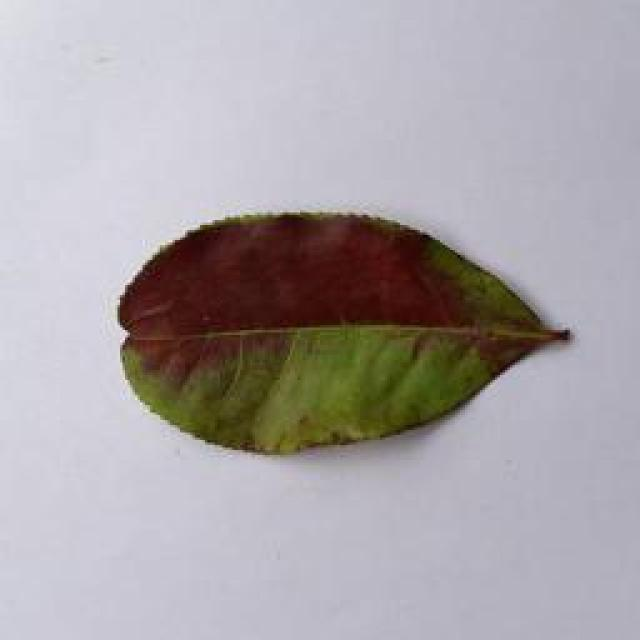Red Leaf Spot: (87, 204, 579, 458)
